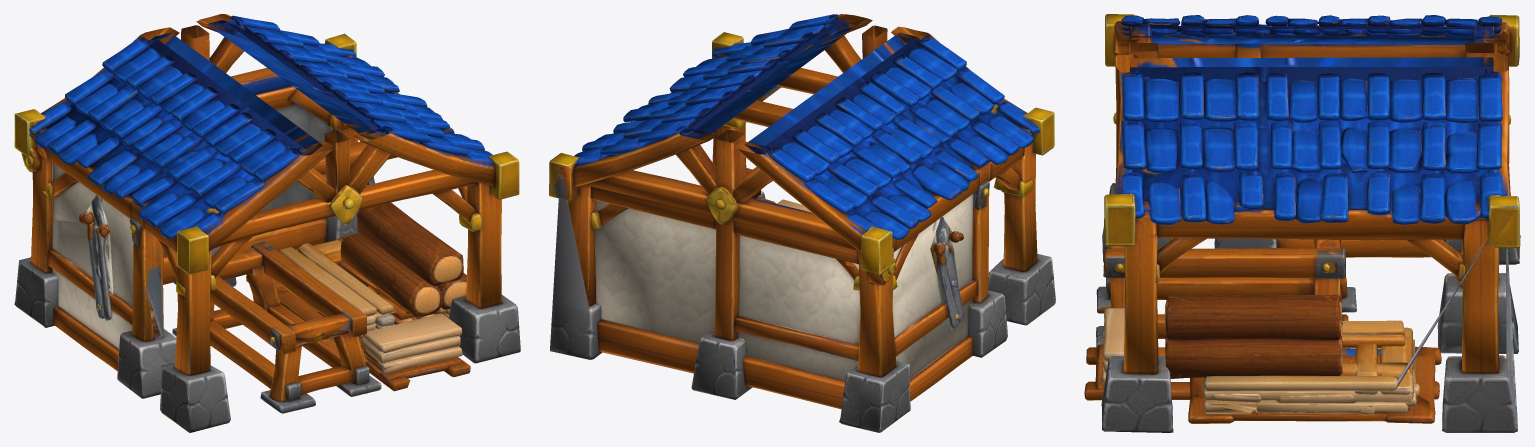
File: aserradero_e3.glb
3 renders of one model, left to right at view 1: azimuth 30°, elevation 25°; view 2: azimuth 150°, elevation 25°; view 3: azimuth 270°, elevation 25°, orthographic. The views are drawn at different scales.
Parts seen in each view (by area): view 1: aserradero_cuerpo; view 2: aserradero_cuerpo; view 3: aserradero_cuerpo.
Part boxes in pixels (bbox=[...]): aserradero_cuerpo: bbox=[14, 14, 520, 432]; aserradero_cuerpo: bbox=[549, 14, 1055, 432]; aserradero_cuerpo: bbox=[1084, 14, 1520, 432].
Bounding box in the file's own units: 1.9 × 1.36 × 1.84.
1 material, 1 textured.
